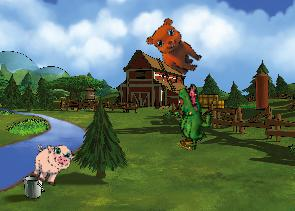bear: (141, 14, 211, 79)
crocodile: (162, 81, 223, 150)
pig: (26, 137, 77, 190)
